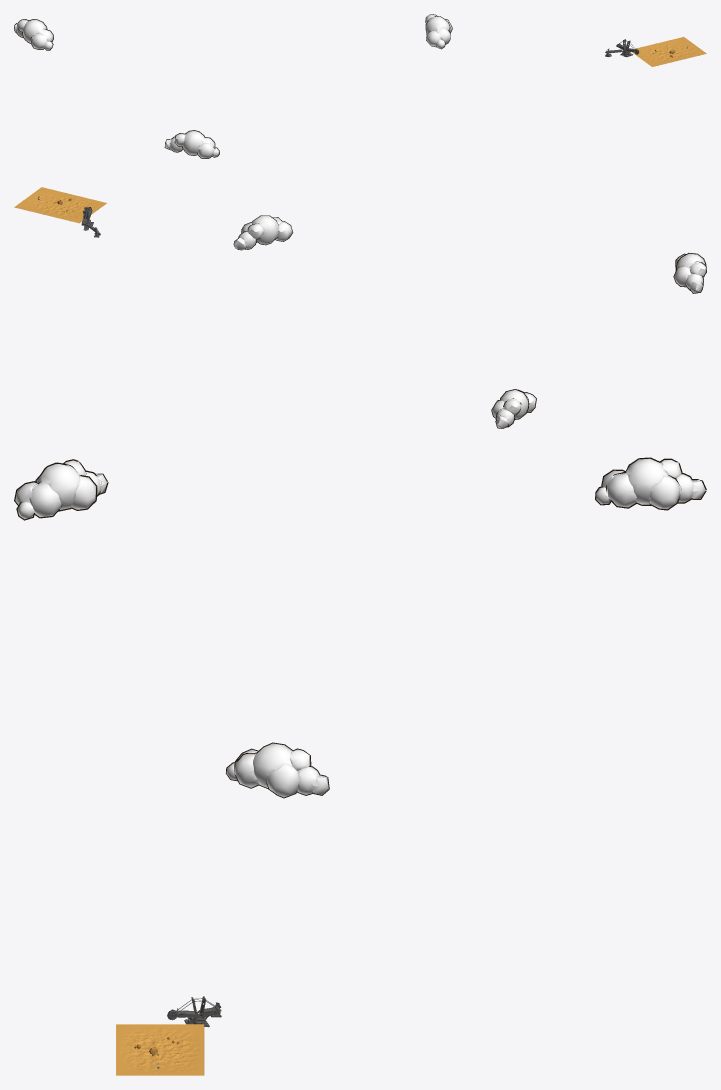
3 views of the same model, one above another, from view 1: azimuth 30°, elevation 25°; view 2: azimuth 150°, elevation 25°; view 3: azimuth 270°, elevation 25° (orthographic). The views are drawn at different scales.
Visible parts, largest first — view 1: Landscape.002, Object_2.002, Object_2.001, Object_2, Object_3; view 2: Landscape.002, Object_2, Object_2.001, Object_2.002; view 3: Landscape.002, Object_2.001, Object_2, Object_2.002.
Boxes of the visible parts, x1=… form: Landscape.002: x1=632, y1=37, x2=706, y2=66; Object_2.002: x1=164, y1=130, x2=219, y2=158; Object_2.001: x1=14, y1=19, x2=53, y2=50; Object_2: x1=425, y1=14, x2=452, y2=49; Object_3: x1=605, y1=39, x2=638, y2=57; Landscape.002: x1=14, y1=187, x2=106, y2=223; Object_2: x1=233, y1=215, x2=293, y2=250; Object_2.001: x1=491, y1=389, x2=536, y2=428; Object_2.002: x1=673, y1=253, x2=706, y2=293; Landscape.002: x1=116, y1=1024, x2=204, y2=1075; Object_2.001: x1=595, y1=457, x2=706, y2=510; Object_2: x1=225, y1=742, x2=329, y2=798; Object_2.002: x1=14, y1=459, x2=108, y2=520.
Bounding box in the file's own units: 645 × 75.06 × 371.
